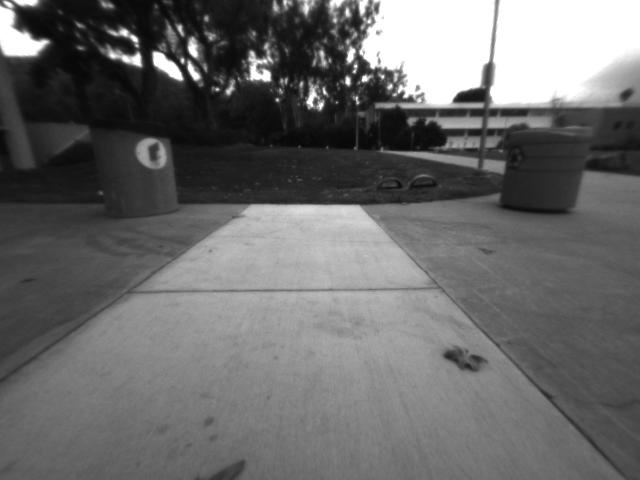trashcan: (82, 110, 190, 220), (493, 115, 600, 216)
